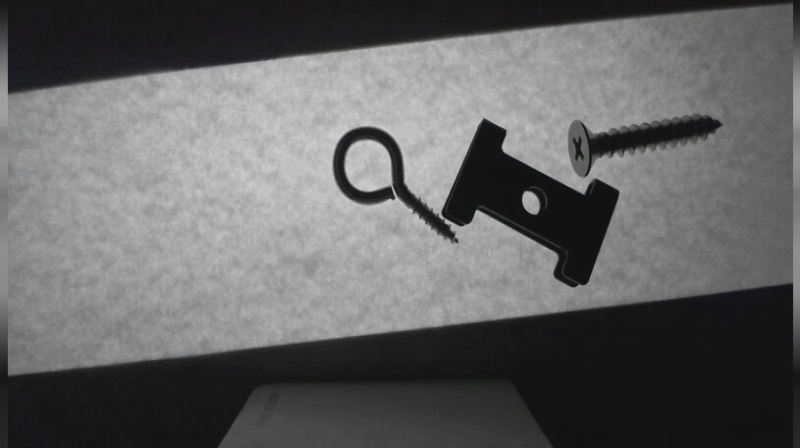O001: (329, 123, 461, 246)
O002: (443, 118, 618, 289)
S001: (566, 109, 723, 177)
